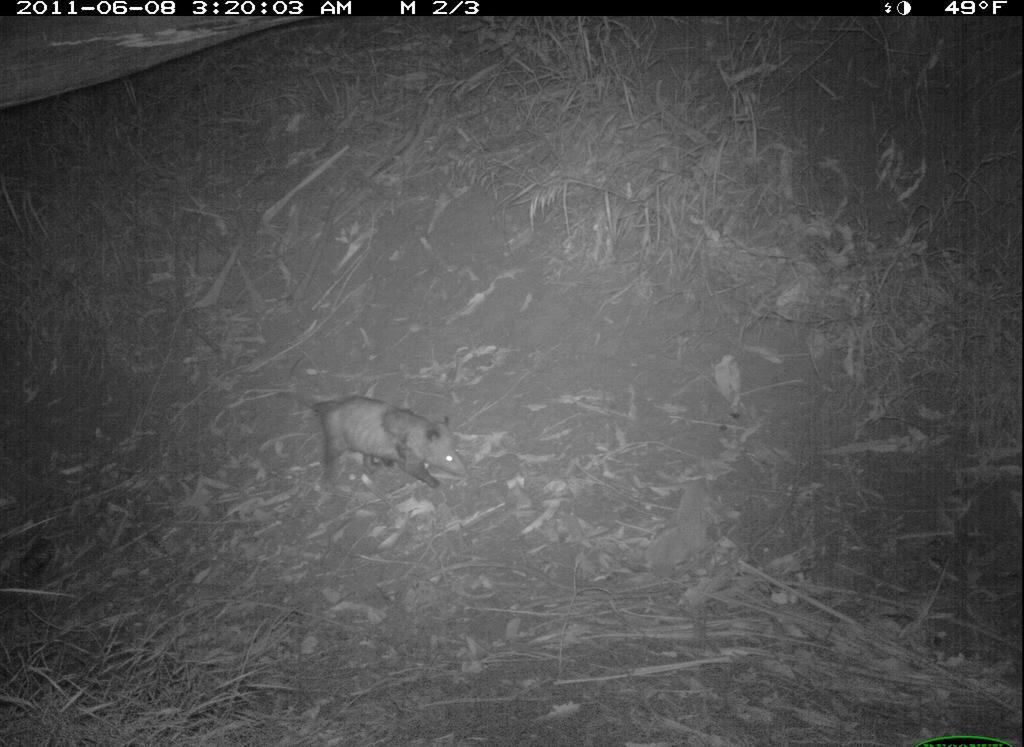opossum: (274, 377, 474, 500)
